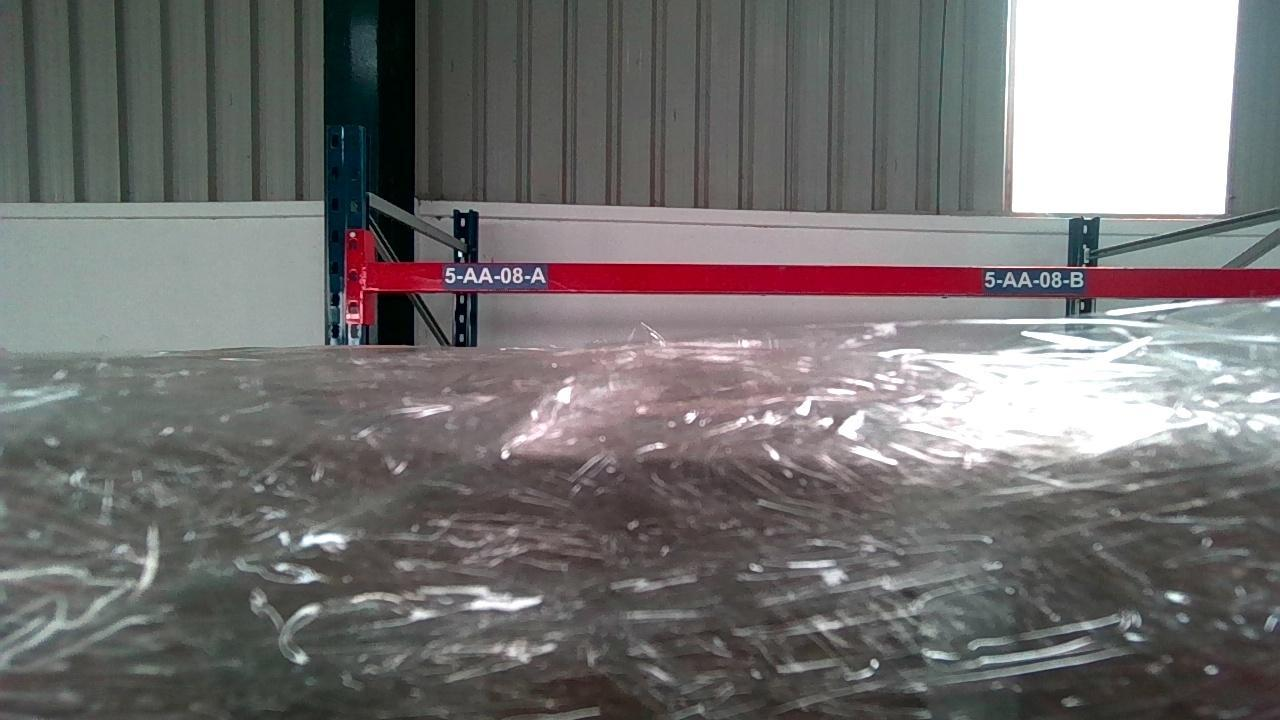h_rack: (368, 258, 1280, 294)
